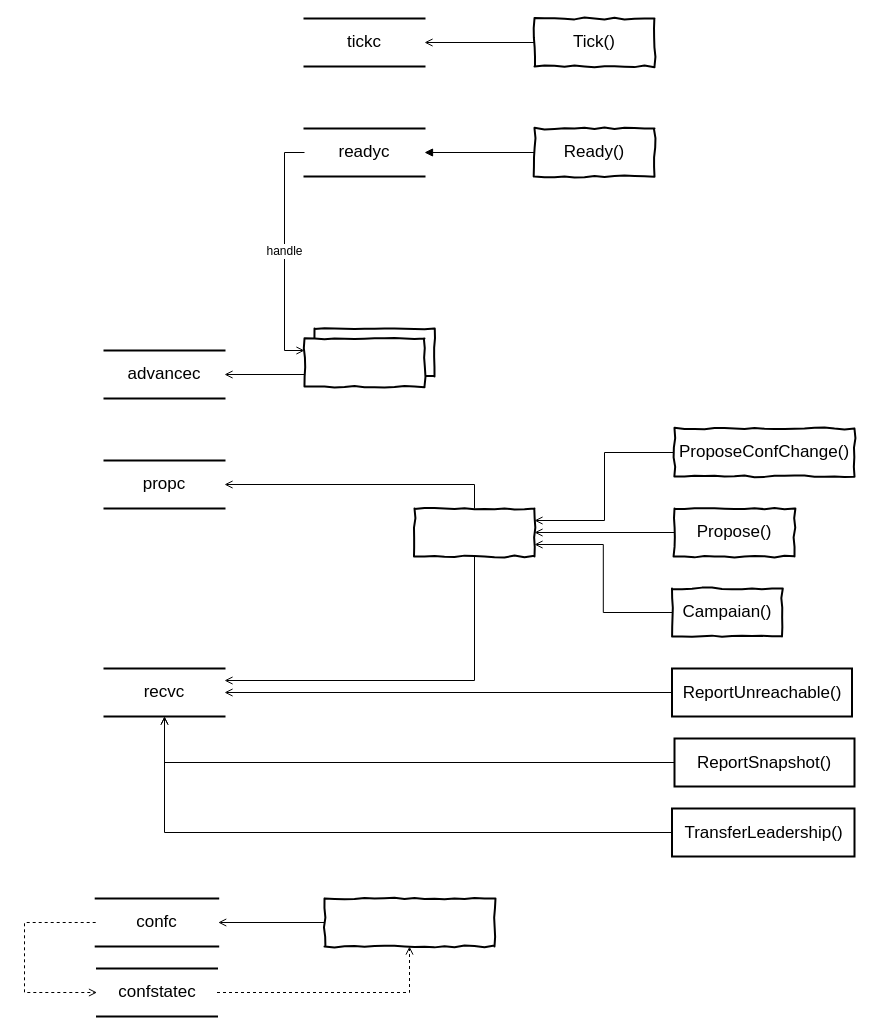
Image size: 873x1034. Some labels were removed from this diagram. The shapes that lost their labels are listed below. From the top down, each one's box as (x1, y1, x2, y2) in pixels, then its label:
(303, 337, 425, 387): Advance()
(413, 507, 535, 557): Step()
(323, 897, 495, 947): ApplyConfChange()
